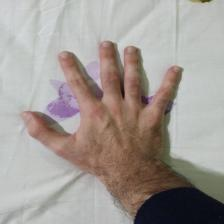five: (23, 39, 189, 174)
